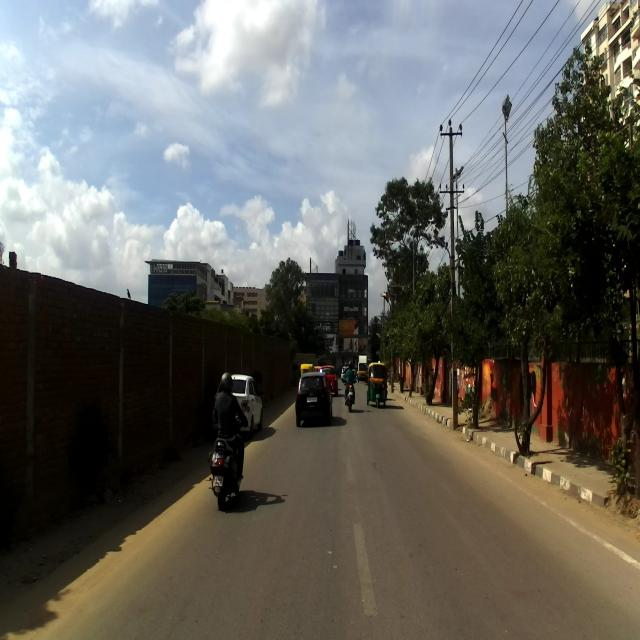Car_Ford: (294, 370, 333, 427)
Car_Maruti-Suzuki: (210, 373, 264, 434)
autorickshaw: (367, 362, 388, 408)
motorcycle: (341, 374, 357, 412)
scooter: (208, 400, 250, 510)
